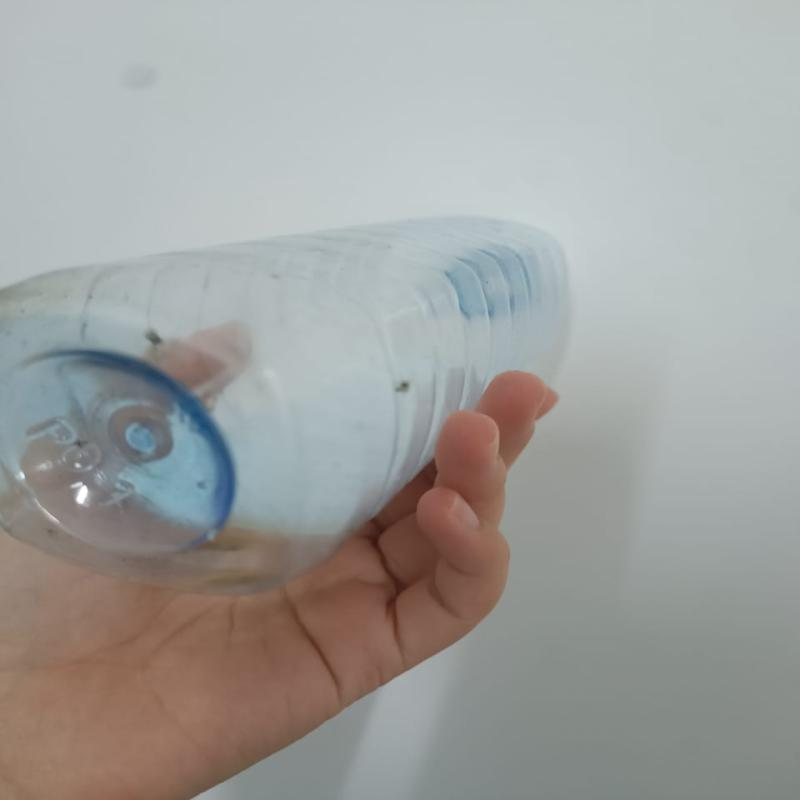botella: (0, 211, 593, 604)
